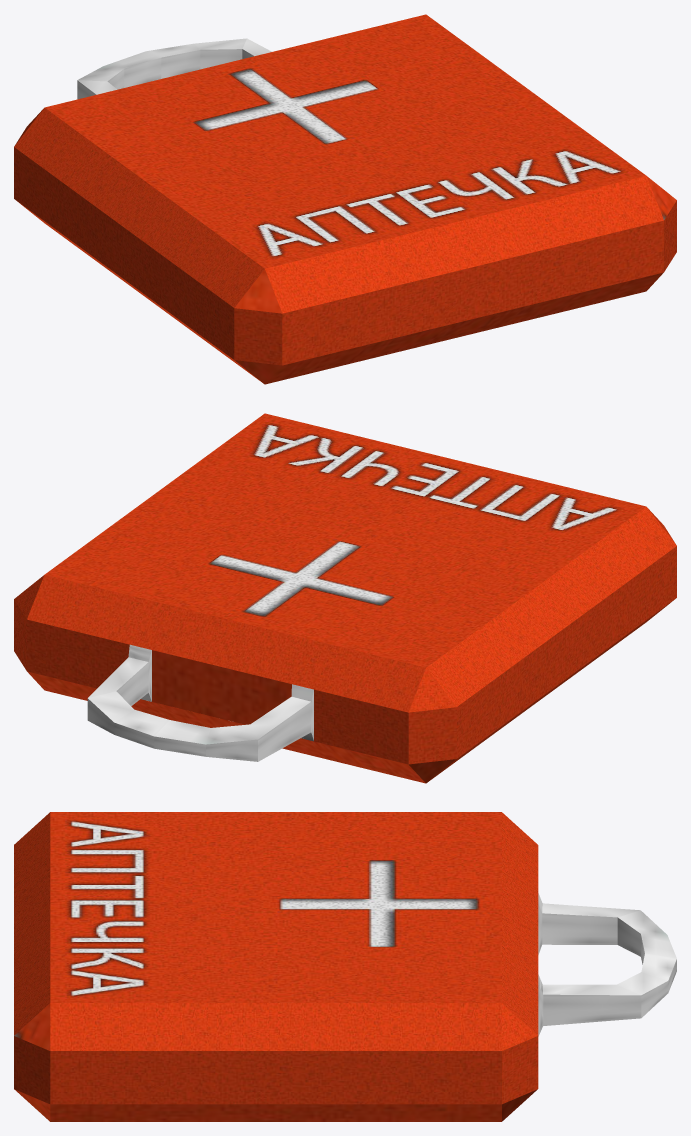
Rendered from helper.FBX.
3 views of the same model, one above another, from view 1: azimuth 30°, elevation 25°; view 2: azimuth 150°, elevation 25°; view 3: azimuth 270°, elevation 25° (orthographic). The views are drawn at different scales.
Visible parts, largest first — view 1: helper; view 2: helper; view 3: helper.
Boxes of the visible parts, left/top/right/bottom form: helper: left=14, top=14, right=676, bottom=384; helper: left=14, top=413, right=676, bottom=783; helper: left=14, top=812, right=676, bottom=1121.
Bounding box in the file's own units: 20 × 25.3 × 5.
1 material, 1 textured.
